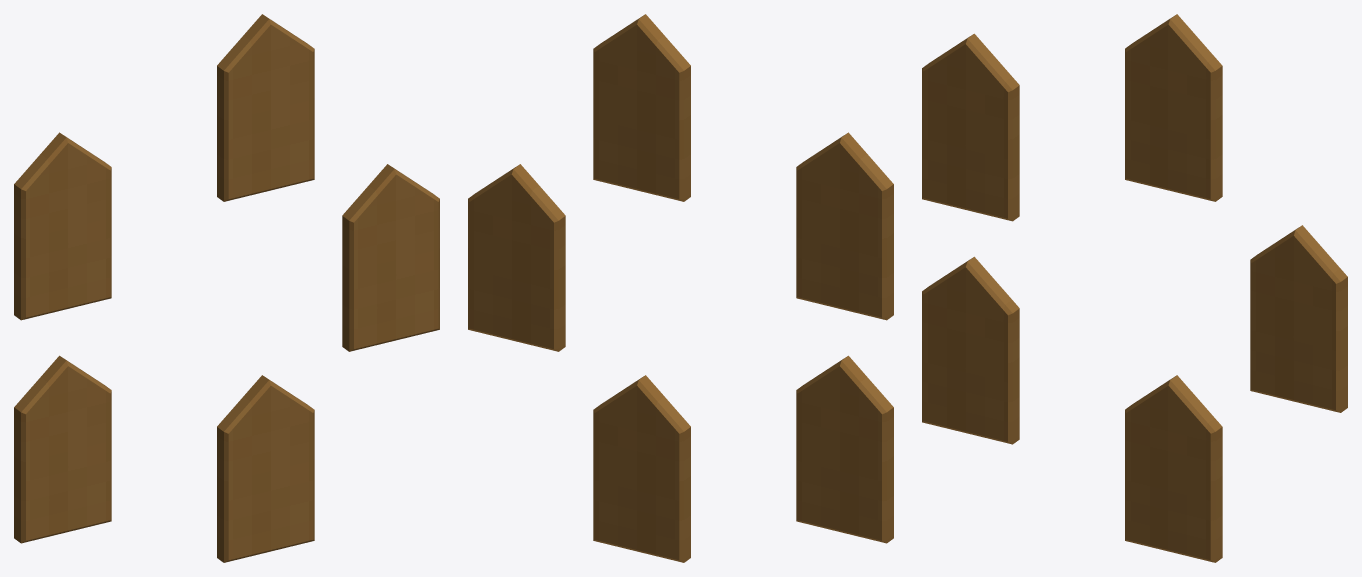
The model's file is talisman-array.lod2.glb.
3 views of the same model, side by side, from view 1: azimuth 30°, elevation 25°; view 2: azimuth 150°, elevation 25°; view 3: azimuth 330°, elevation 25° (orthographic).
Parts seen in each view (by area): view 1: brass.3, brass.0, brass.1, brass.2, brass.4; view 2: brass.3, brass.0, brass.1, brass.2, brass.4; view 3: brass.1, brass.4, brass.0, brass.2, brass.3.
Part boxes in pixels (x1,y1,x2,y2): brass.3: [14, 355, 111, 543]; brass.0: [342, 164, 439, 351]; brass.1: [217, 14, 314, 201]; brass.2: [14, 132, 111, 320]; brass.4: [217, 375, 314, 562]; brass.3: [796, 355, 893, 543]; brass.0: [468, 164, 565, 351]; brass.1: [593, 14, 690, 201]; brass.2: [796, 132, 893, 320]; brass.4: [593, 375, 690, 562]; brass.1: [1125, 14, 1222, 201]; brass.4: [1125, 375, 1222, 562]; brass.0: [1250, 225, 1347, 412]; brass.2: [922, 33, 1019, 221]; brass.3: [922, 256, 1019, 444].
Size of the model in its own units: 0.3464 by 0.4211 by 0.015.
1 material, 1 textured.
